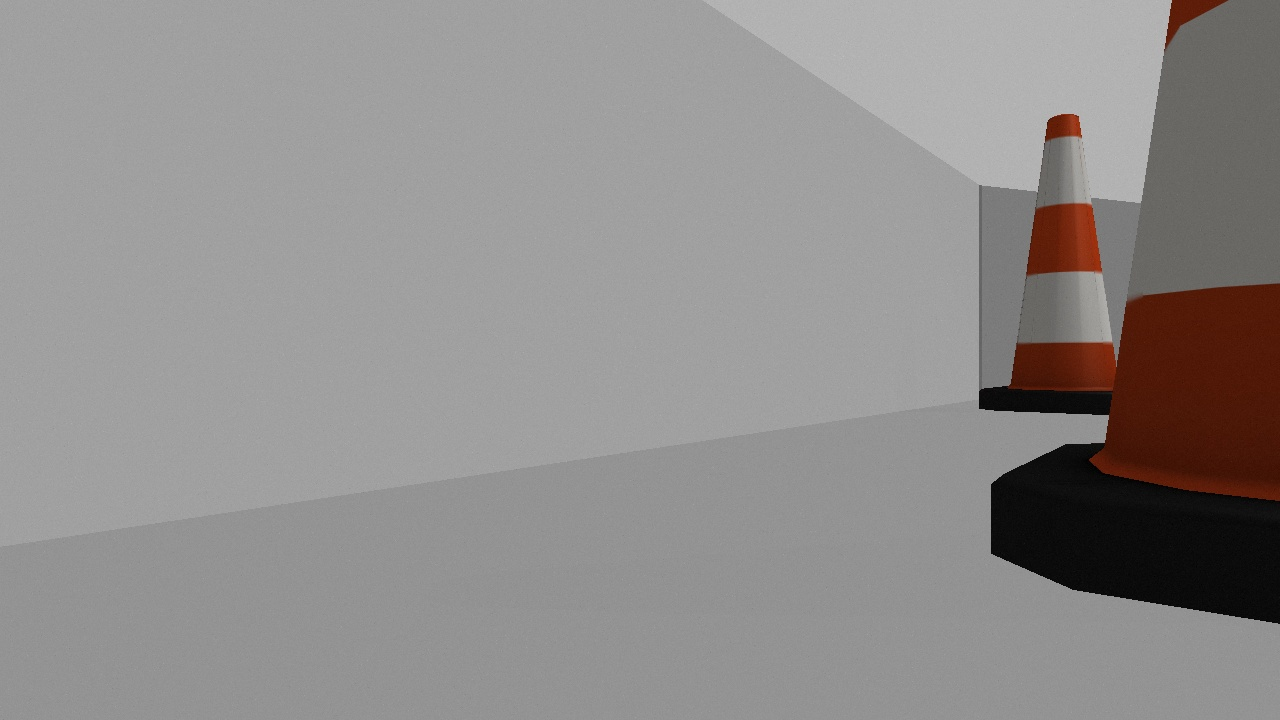barricade: (977, 115, 1156, 414)
